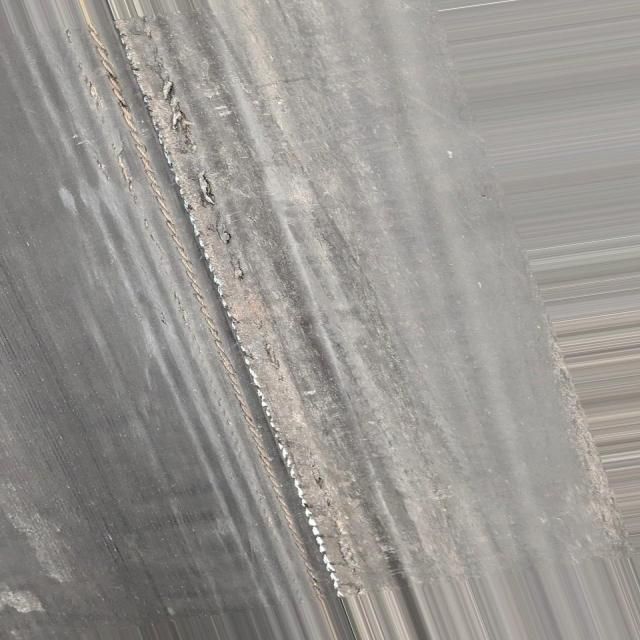impact damage: (88, 27, 381, 593)
